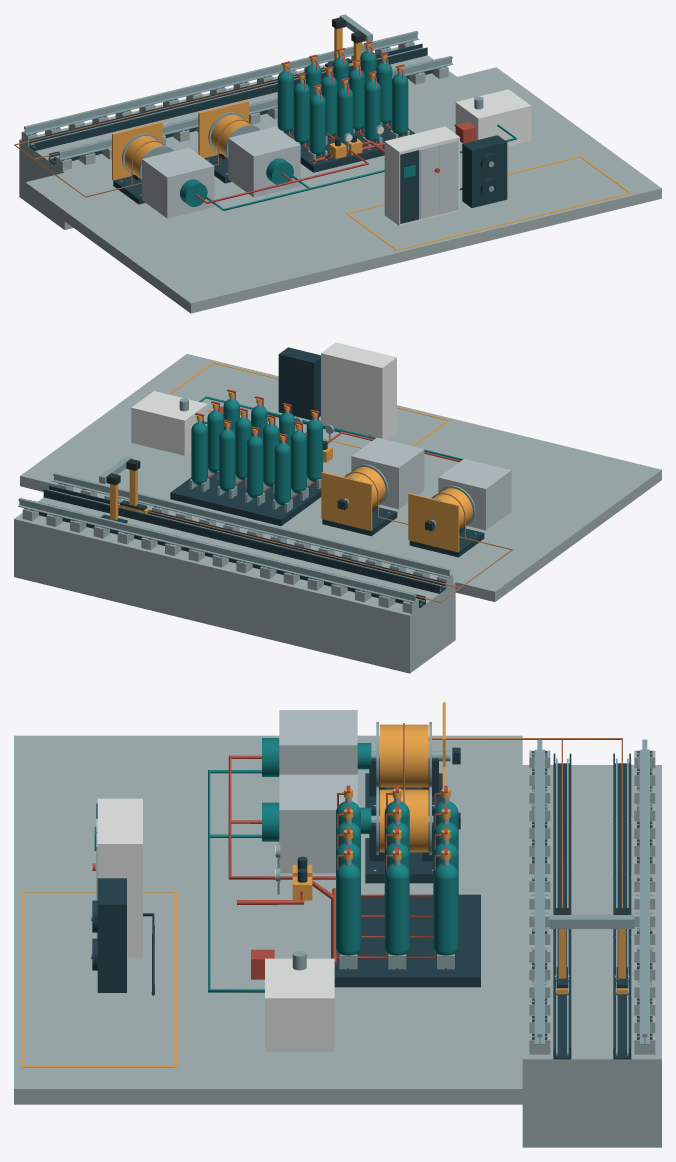
File: arrestor-storage.glb
The picture shows the model from 3 angles, top to bottom: view 1: azimuth 30°, elevation 25°; view 2: azimuth 150°, elevation 25°; view 3: azimuth 270°, elevation 25°; orthographic projection. The views are drawn at different scales.
Parts seen in each view (by area): view 1: plant-floor/extension, station-deck/envelope, capture-converter/0/gearbox, capture-converter/1/gearbox, return-reservoir, capture-control/power-control-cabinet, capture-control/cooler, capture-channel/1/wall/-1, running-rail/left/web, running-rail/left/head, capture-control/cabinet-door/2, capture-control/cabinet-door/1 (+29 smaller); view 2: plant-floor/extension, station-deck/envelope, capture-control/power-control-cabinet, return-reservoir, capture-converter/0/gearbox, energy-store/skid, capture-converter/1/gearbox, capture-channel/-1/wall/1, capture-control/cooler, capture-converter/0/guard, capture-converter/1/guard, running-rail/left/web (+22 smaller); view 3: plant-floor/extension, station-deck/envelope, energy-store/skid, return-reservoir, capture-converter/1/gearbox, capture-converter/0/gearbox, capture-control/power-control-cabinet, capture-control/cooler, capture-channel/-1/floor, capture-channel/1/floor, capture-converter/0/barrel, running-rail/left/foot (+18 smaller).
Part boxes in pixels (x1,y1,x2,y2): plant-floor/extension: (25, 67, 661, 313); station-deck/envelope: (19, 47, 456, 229); capture-converter/0/gearbox: (142, 147, 214, 218); capture-converter/1/gearbox: (228, 126, 300, 197); return-reservoir: (455, 89, 531, 146); capture-control/power-control-cabinet: (384, 126, 459, 225); capture-control/cooler: (462, 135, 507, 207); capture-channel/1/wall/-1: (34, 47, 427, 149); running-rail/left/web: (24, 34, 417, 133); running-rail/left/head: (24, 31, 418, 129); capture-control/cabinet-door/2: (439, 140, 458, 214); capture-control/cabinet-door/1: (420, 145, 438, 218); plant-floor/extension: (20, 354, 661, 601); station-deck/envelope: (14, 489, 455, 673); capture-control/power-control-cabinet: (321, 342, 396, 439); return-reservoir: (131, 391, 207, 455); capture-converter/0/gearbox: (438, 459, 511, 530); energy-store/skid: (170, 473, 321, 525); capture-converter/1/gearbox: (351, 437, 424, 509); capture-channel/-1/wall/1: (43, 489, 440, 592); capture-control/cooler: (278, 347, 320, 419); capture-converter/0/guard: (408, 493, 459, 552); capture-converter/1/guard: (321, 472, 372, 530); running-rail/left/web: (19, 501, 415, 601); plant-floor/extension: (14, 735, 522, 1104); station-deck/envelope: (522, 765, 661, 1147); energy-store/skid: (331, 894, 480, 987); return-reservoir: (265, 958, 334, 1051); capture-converter/1/gearbox: (279, 774, 357, 873); capture-converter/0/gearbox: (279, 710, 357, 774); capture-control/power-control-cabinet: (97, 798, 142, 957); capture-control/cooler: (97, 878, 126, 992); capture-channel/-1/floor: (553, 763, 571, 1059); capture-channel/1/floor: (613, 763, 631, 1059); capture-converter/0/barrel: (379, 724, 428, 787); running-rail/left/foot: (639, 749, 649, 1044).
Bounding box in the file's own units: 12 × 3.36 × 9.3.
